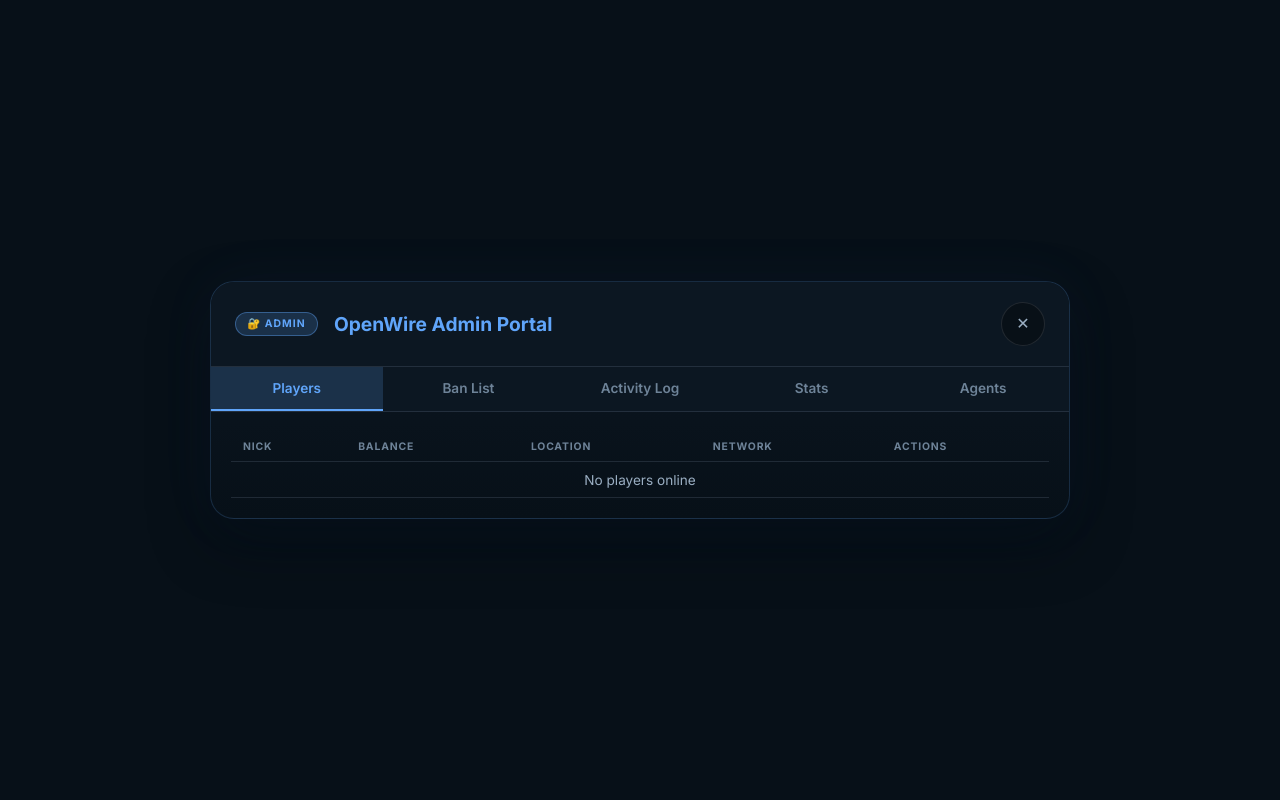
Test: AdminPortal — Tab navigation › renders activity log entries in reverse chronological order
Click the button "Activity Log". click: (640, 389)
box: [554,367,726,411]
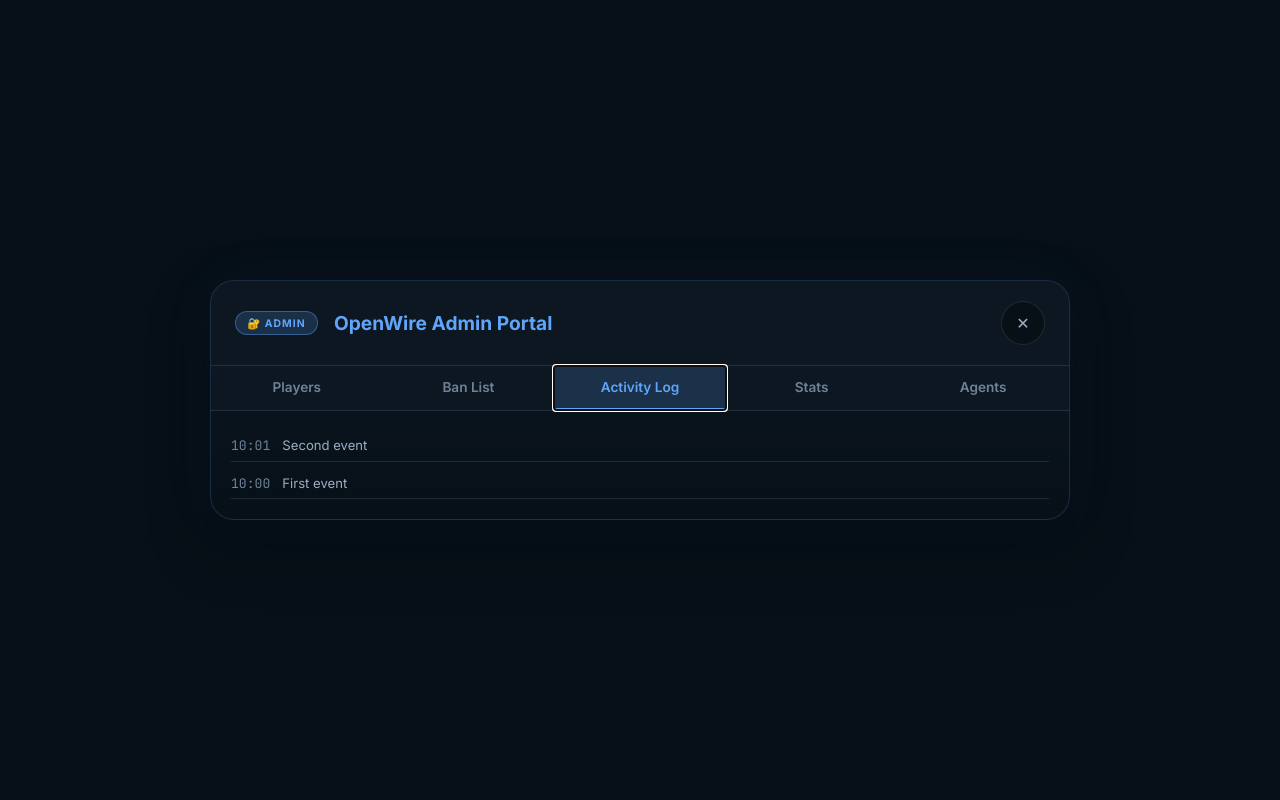
Expected: the text "Second event" is shown, [282,437,367,454]
Expected: the text "First event" is shown, [282,475,347,492]
